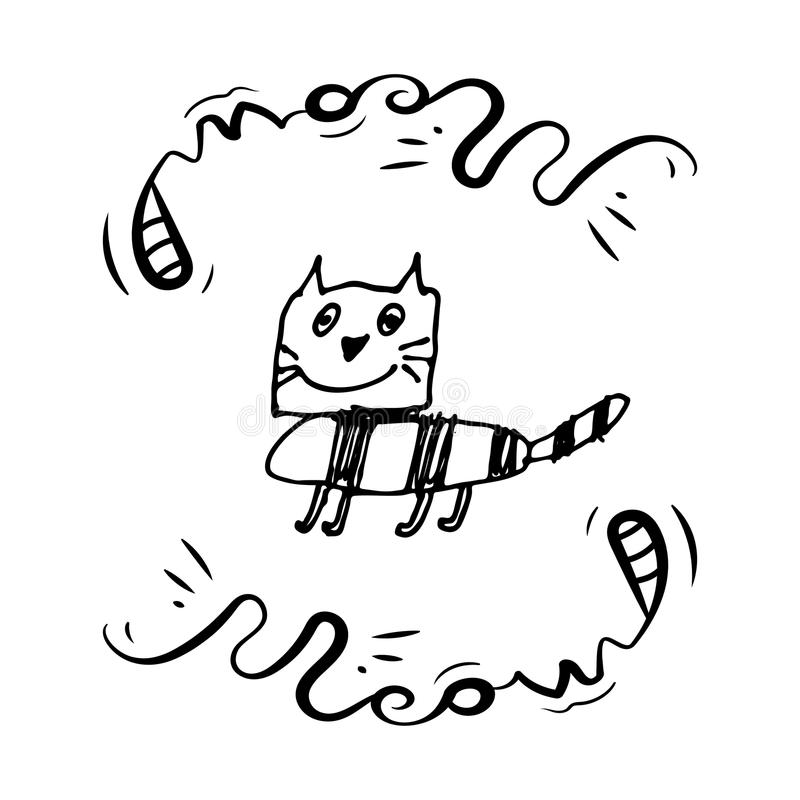cat: (260, 243, 463, 425)
